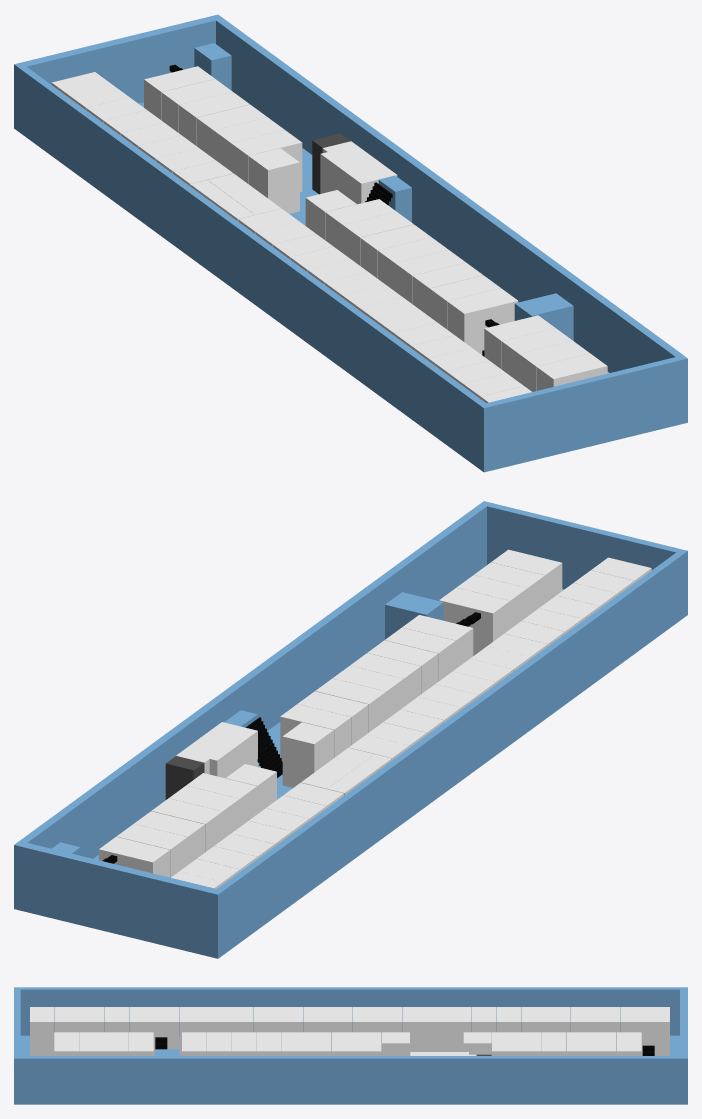
The picture shows the model from 3 angles, top to bottom: view 1: azimuth 30°, elevation 25°; view 2: azimuth 150°, elevation 25°; view 3: azimuth 270°, elevation 25°; orthographic projection. The views are drawn at different scales.
Parts seen in each view (by area): view 1: object, 受付, 男子トイレ_8_4, 湯沸室, 8425, 8435, 8423, 84共同研究室, 8428, 女子トイレ_8_4, 8419, 8422 (+35 smaller); view 2: object, 受付, 8438, コピー室, 女子トイレ_8_4, 8424, 8422, 8427, 8429, 84共同研究室, 8419, 8435 (+36 smaller); view 3: object, 会議室841, 8430, 8418, 8401, 8417, 8434, 8402, 8433, 8404, 8405, 8410 (+35 smaller).
Boxes of the visible parts, <box> form: object: <box>14,14,687,472</box>; 受付: <box>320,141,397,204</box>; 男子トイレ_8_4: <box>447,288,518,354</box>; 湯沸室: <box>248,148,299,213</box>; 8425: <box>231,130,302,191</box>; 8435: <box>536,353,607,390</box>; 8423: <box>342,211,413,265</box>; 84共同研究室: <box>429,275,500,329</box>; 8428: <box>179,91,249,145</box>; 女子トイレ_8_4: <box>144,66,214,120</box>; 8419: <box>412,262,483,316</box>; 8422: <box>360,224,431,278</box>; object: <box>14,501,687,958</box>; 受付: <box>176,722,257,778</box>; 8438: <box>439,587,510,655</box>; コピー室: <box>282,722,333,787</box>; 女子トイレ_8_4: <box>99,836,169,877</box>; 8424: <box>280,704,351,761</box>; 8422: <box>315,678,386,732</box>; 8427: <box>151,798,222,852</box>; 8429: <box>116,824,187,877</box>; 84共同研究室: <box>385,627,455,681</box>; 8419: <box>367,640,438,694</box>; 8435: <box>491,549,562,603</box>; object: <box>14,987,687,1104</box>; 会議室841: <box>402,1013,470,1055</box>; 8430: <box>30,1007,54,1055</box>; 8418: <box>645,1007,669,1055</box>; 8401: <box>154,1007,178,1055</box>; 8417: <box>620,1007,645,1055</box>; 8434: <box>129,1007,154,1055</box>; 8402: <box>179,1007,203,1055</box>; 8433: <box>104,1007,129,1055</box>; 8404: <box>228,1007,253,1055</box>; 8405: <box>253,1007,278,1055</box>; 8410: <box>377,1007,402,1055</box>.
Size of the model in its own units: 0.7822 by 0.2404 by 3.12.
